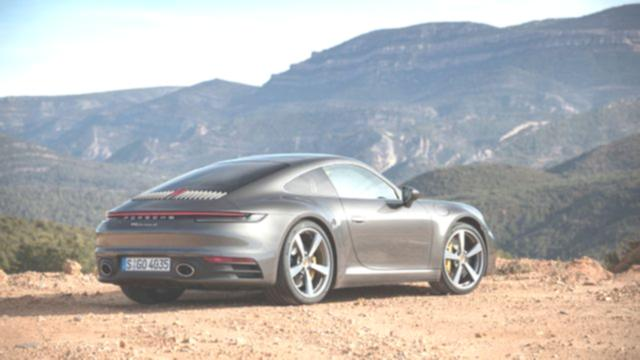porsche: (121, 210, 179, 222)
